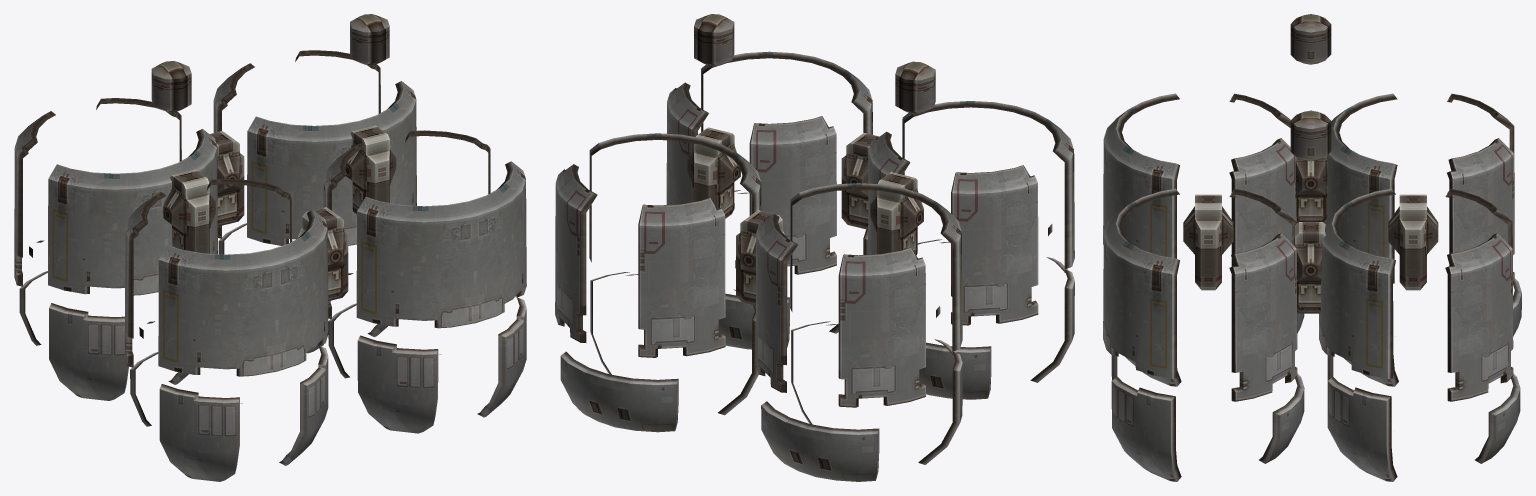
The model's file is prop_static_tr1_container_01_12_0.glb.
The picture shows the model from 3 angles, left to right: view 1: azimuth 30°, elevation 25°; view 2: azimuth 150°, elevation 25°; view 3: azimuth 270°, elevation 25°; orthographic projection. The views are drawn at different scales.
Visible parts, largest first — view 1: tr1_container_01_12_mat01c_LOD0; view 2: tr1_container_01_12_mat01c_LOD0; view 3: tr1_container_01_12_mat01c_LOD0.
Part boxes in pixels (left/top/right/bottom): tr1_container_01_12_mat01c_LOD0: left=14, top=14, right=526, bottom=481; tr1_container_01_12_mat01c_LOD0: left=555, top=14, right=1074, bottom=481; tr1_container_01_12_mat01c_LOD0: left=1103, top=14, right=1521, bottom=481.
Size of what is drawn, in the model's own units: 5.7 by 5.2 by 5.75.
Materials: 1 (1 with a texture image).
